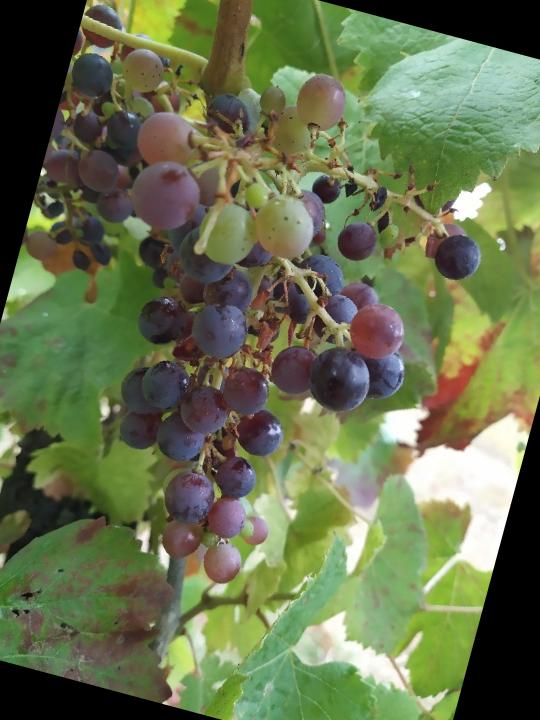grape: (0, 0, 524, 631)
